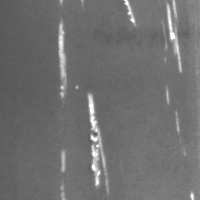scratches: (85, 91, 112, 191), (165, 1, 186, 74), (56, 18, 71, 98), (57, 149, 70, 199), (122, 1, 139, 27)
